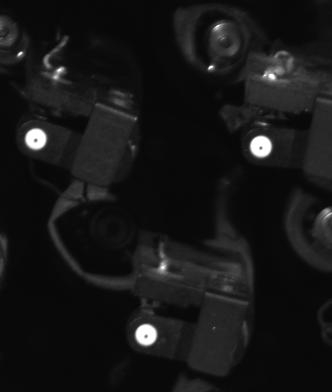fiber: (129, 319, 167, 351), (23, 124, 51, 153), (246, 133, 275, 160)
